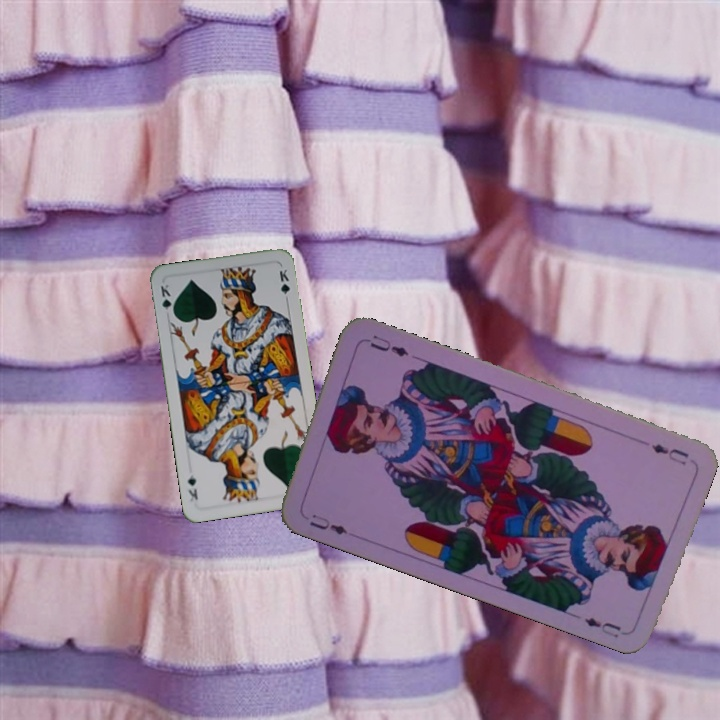EU: (647, 439, 692, 468), (305, 510, 350, 538)
GK: (156, 280, 177, 319)
